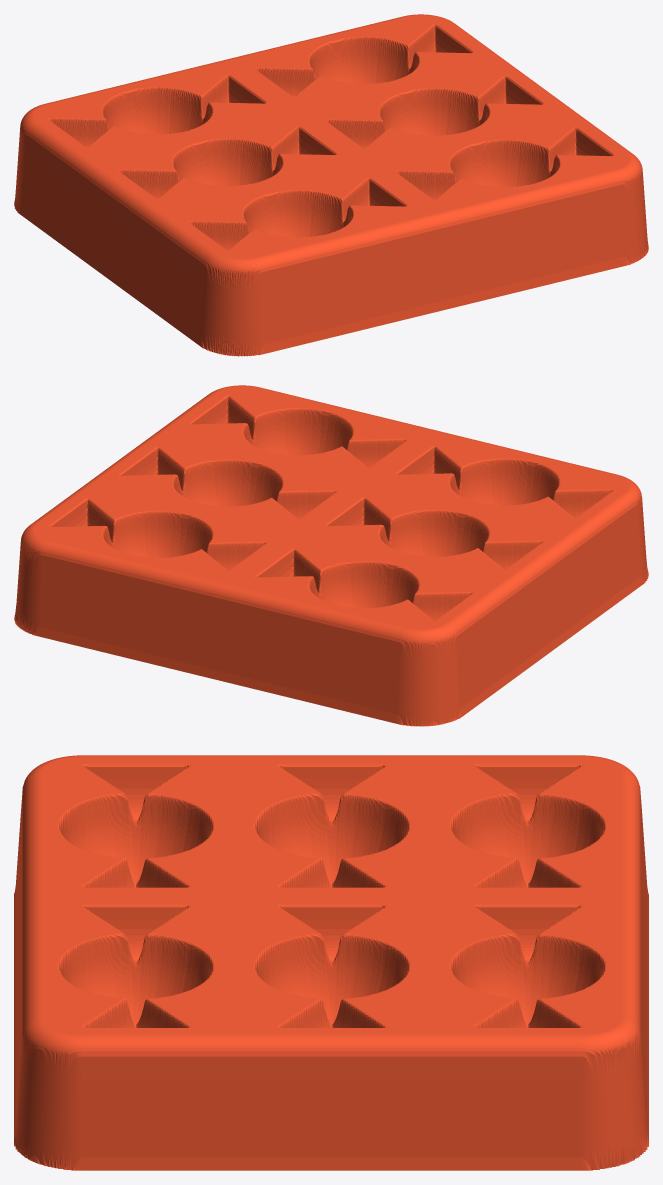
File: mold.glb
3 views of the same model, one above another, from view 1: azimuth 30°, elevation 25°; view 2: azimuth 150°, elevation 25°; view 3: azimuth 270°, elevation 25° (orthographic). The views are drawn at different scales.
Parts seen in each view (by area): view 1: geometry_0; view 2: geometry_0; view 3: geometry_0.
Boxes of the visible parts, x1=… form: geometry_0: x1=14, y1=14, x2=648, y2=356; geometry_0: x1=14, y1=385, x2=648, y2=726; geometry_0: x1=14, y1=755, x2=648, y2=1170.
Size of the model in its own units: 0.0947 by 0.0182 by 0.0845.
